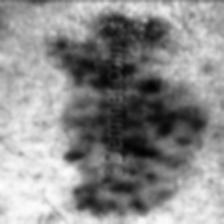Potentially Malignant Skin Tumors: (127, 71, 204, 168), (53, 52, 101, 164), (72, 176, 166, 222), (94, 5, 172, 45)
